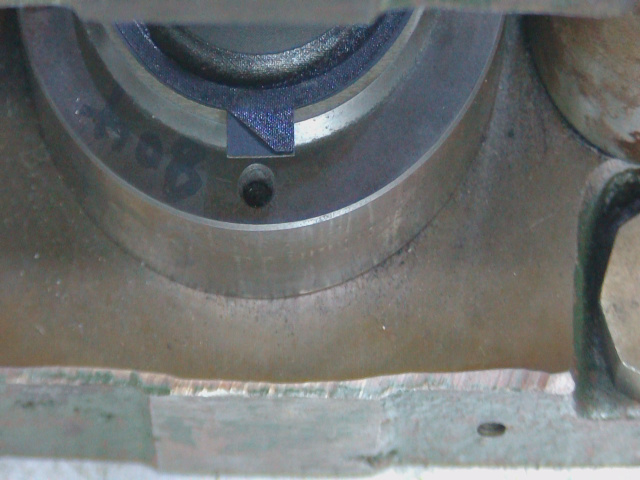HX3: (228, 101, 305, 169)
